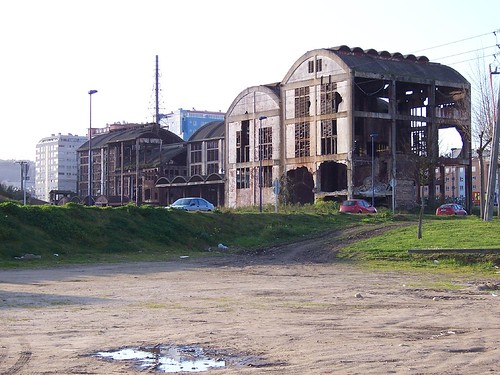building: (229, 56, 470, 206), (76, 124, 172, 203), (153, 116, 222, 207), (34, 133, 80, 200)
car: (168, 193, 217, 212), (340, 199, 376, 216), (433, 198, 466, 216)
dirt: (1, 240, 482, 375)
